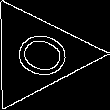O_SE: (0, 24, 75, 85)
